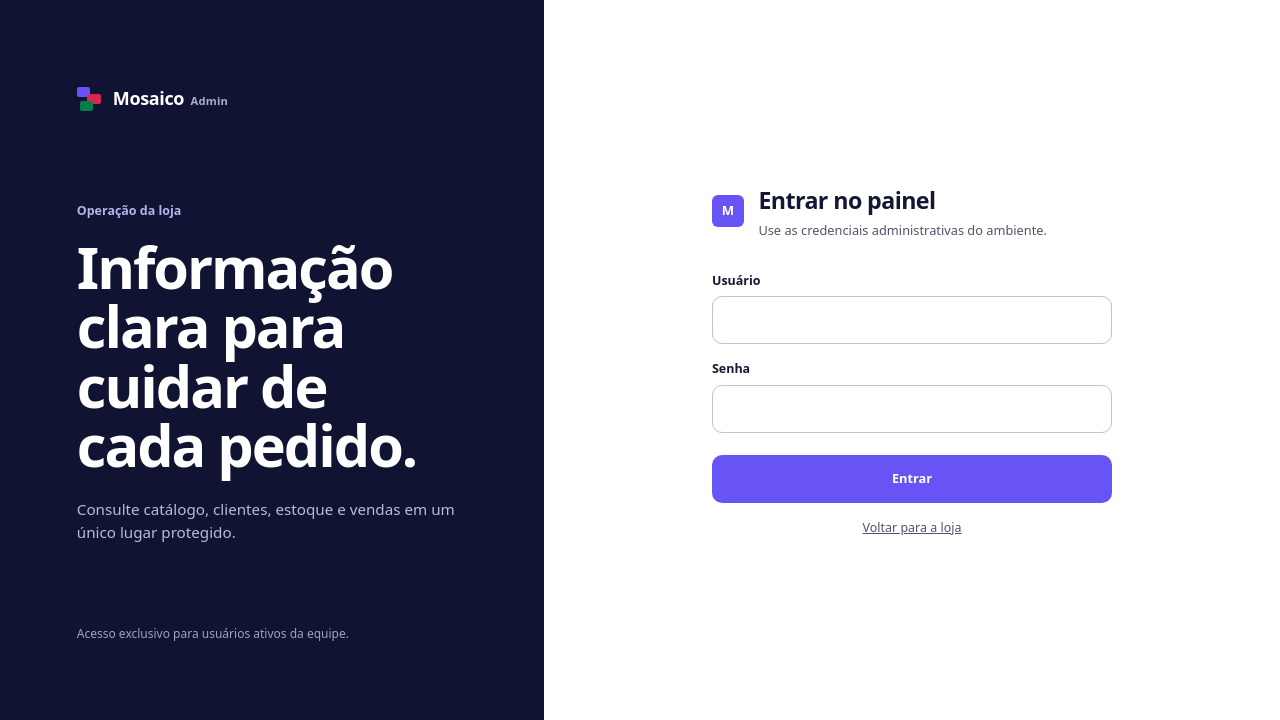
Test: Mosaico Admin › logs staff in with CSRF and opens the requested protected page
Type "admin" into the field labelled "Usuário" at [912, 320], box [712,296,1112,344]
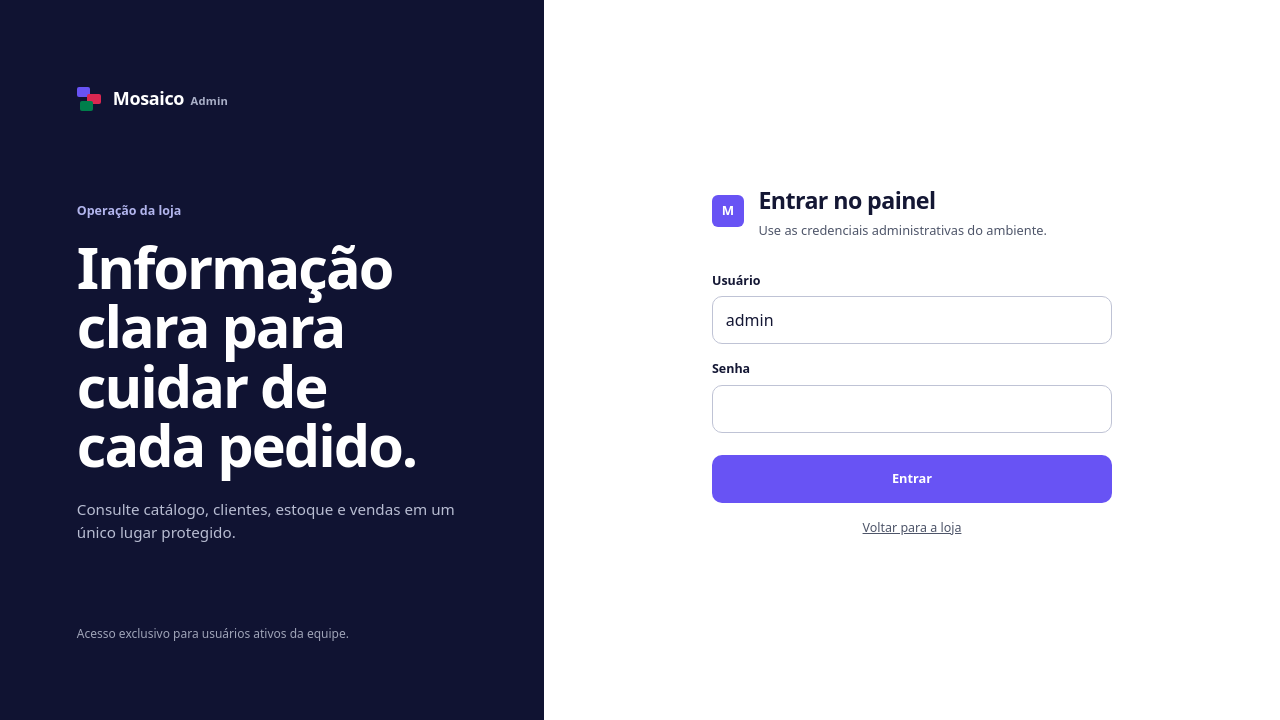
Type "segredo-local" into the password field labelled "Senha" at [912, 409], box [712,385,1112,433]
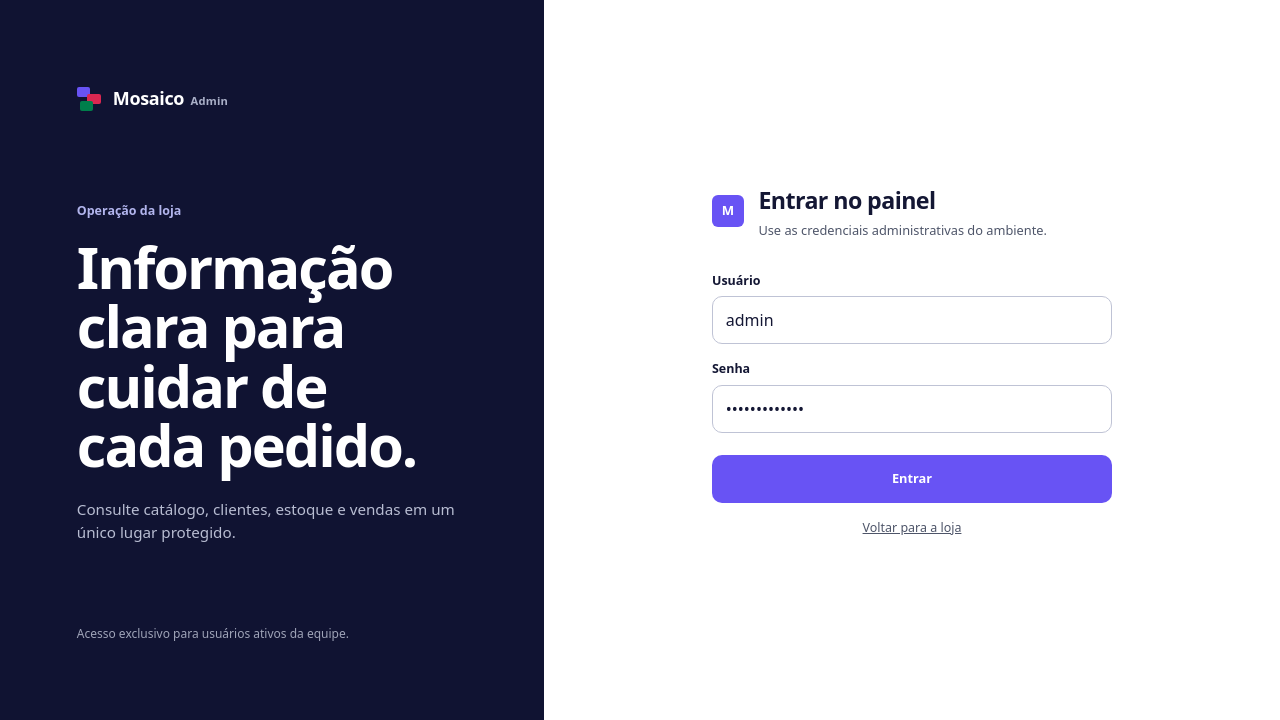
Click the button "Entrar" at [912, 479], box [712,455,1112,503]
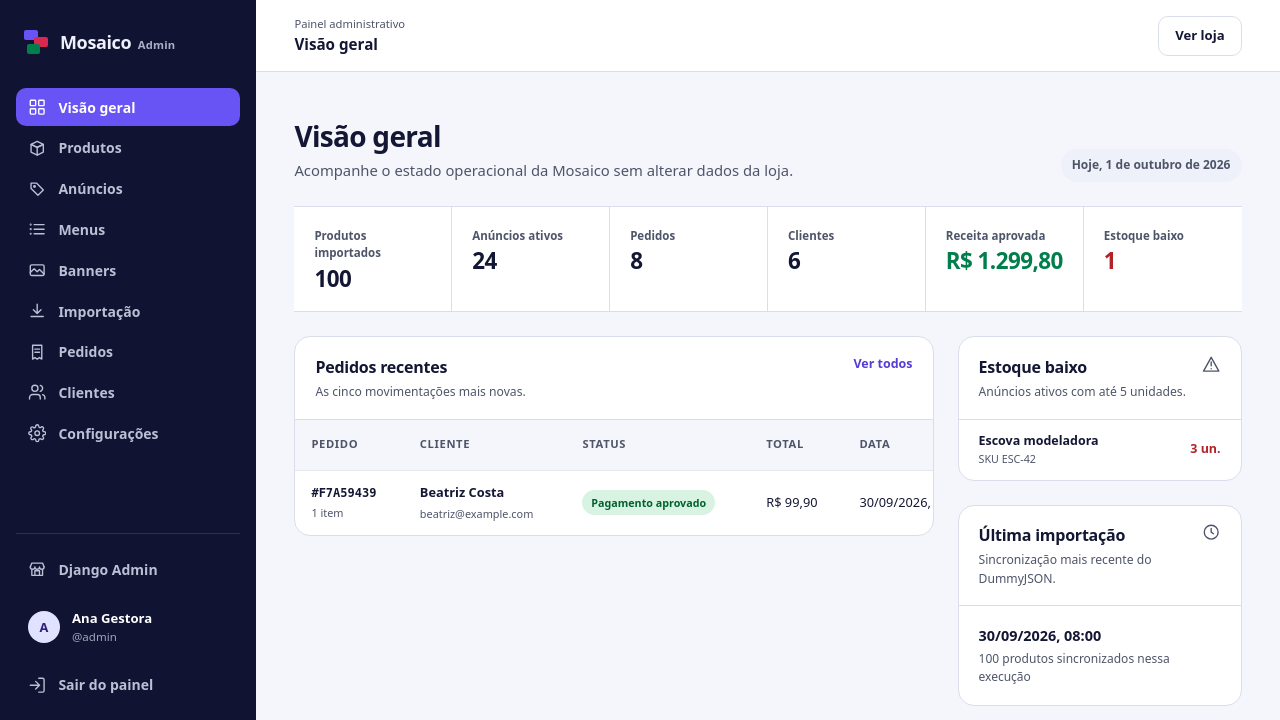
Now the heading "Visão geral" is shown, box [294,117,441,155]
